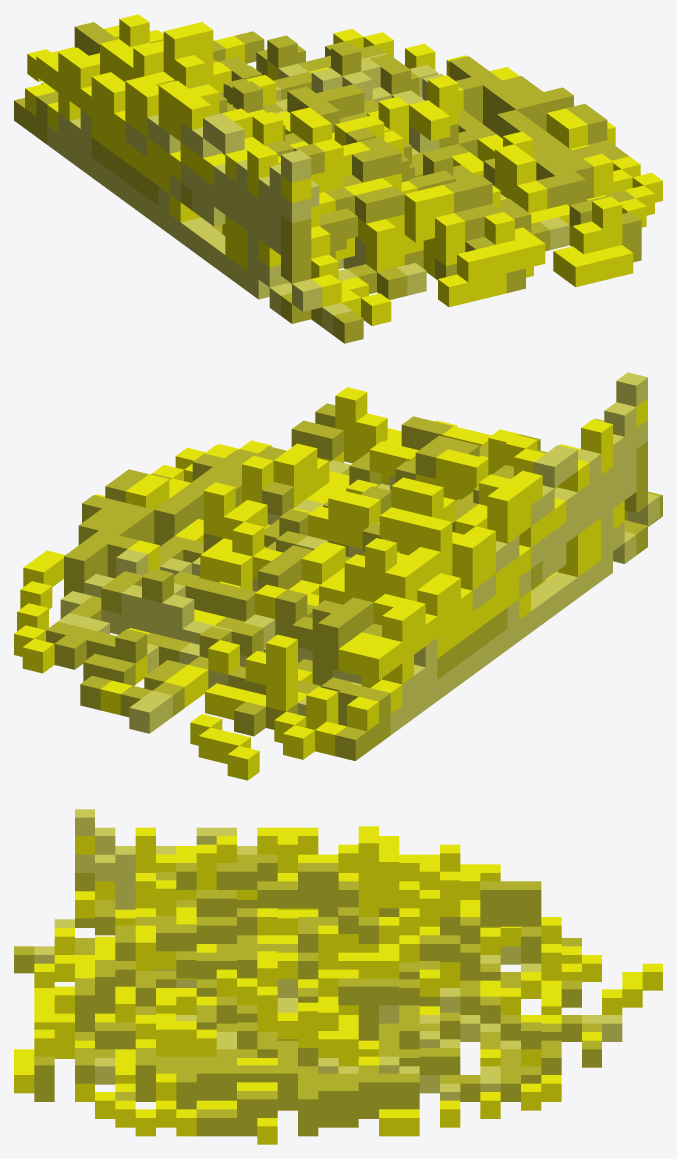
Rendered from Wall sand.obj.
3 views of the same model, one above another, from view 1: azimuth 30°, elevation 25°; view 2: azimuth 150°, elevation 25°; view 3: azimuth 270°, elevation 25° (orthographic). The views are drawn at different scales.
Bounding box in the file's own units: 22 × 8 × 32.
1 material, 1 textured.
